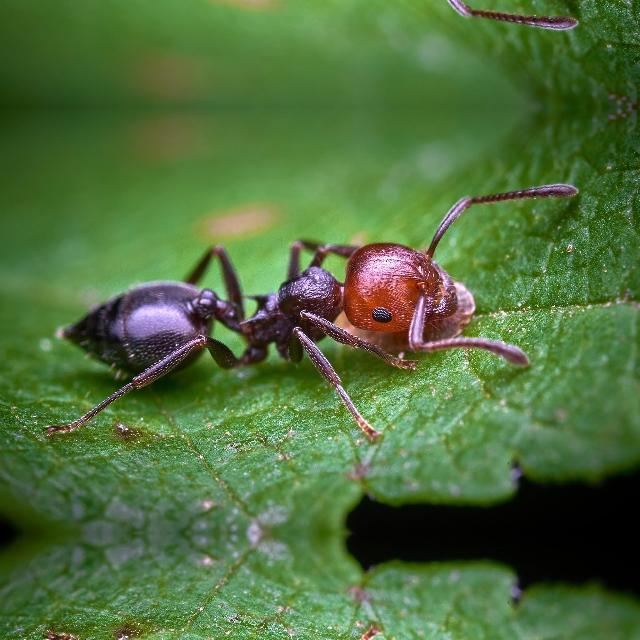Crematogaster: (62, 222, 460, 408)
